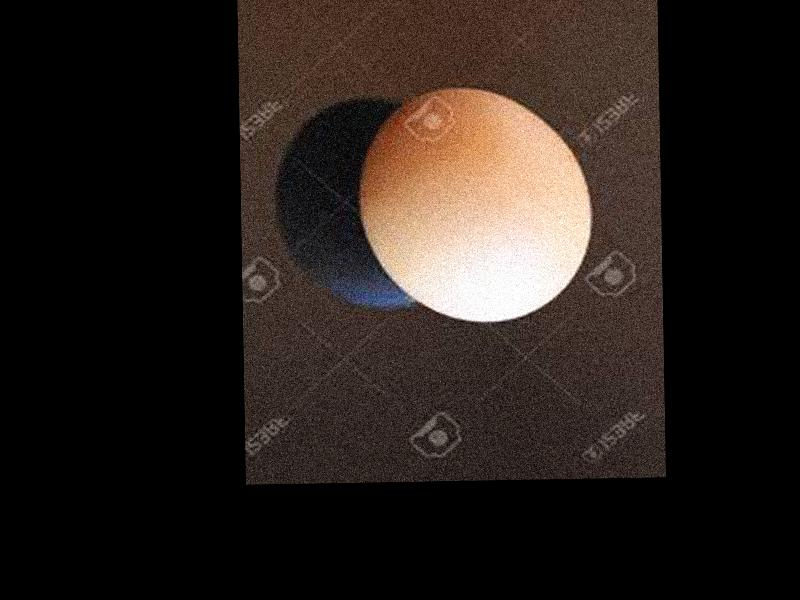Eggs: (355, 87, 593, 325)
